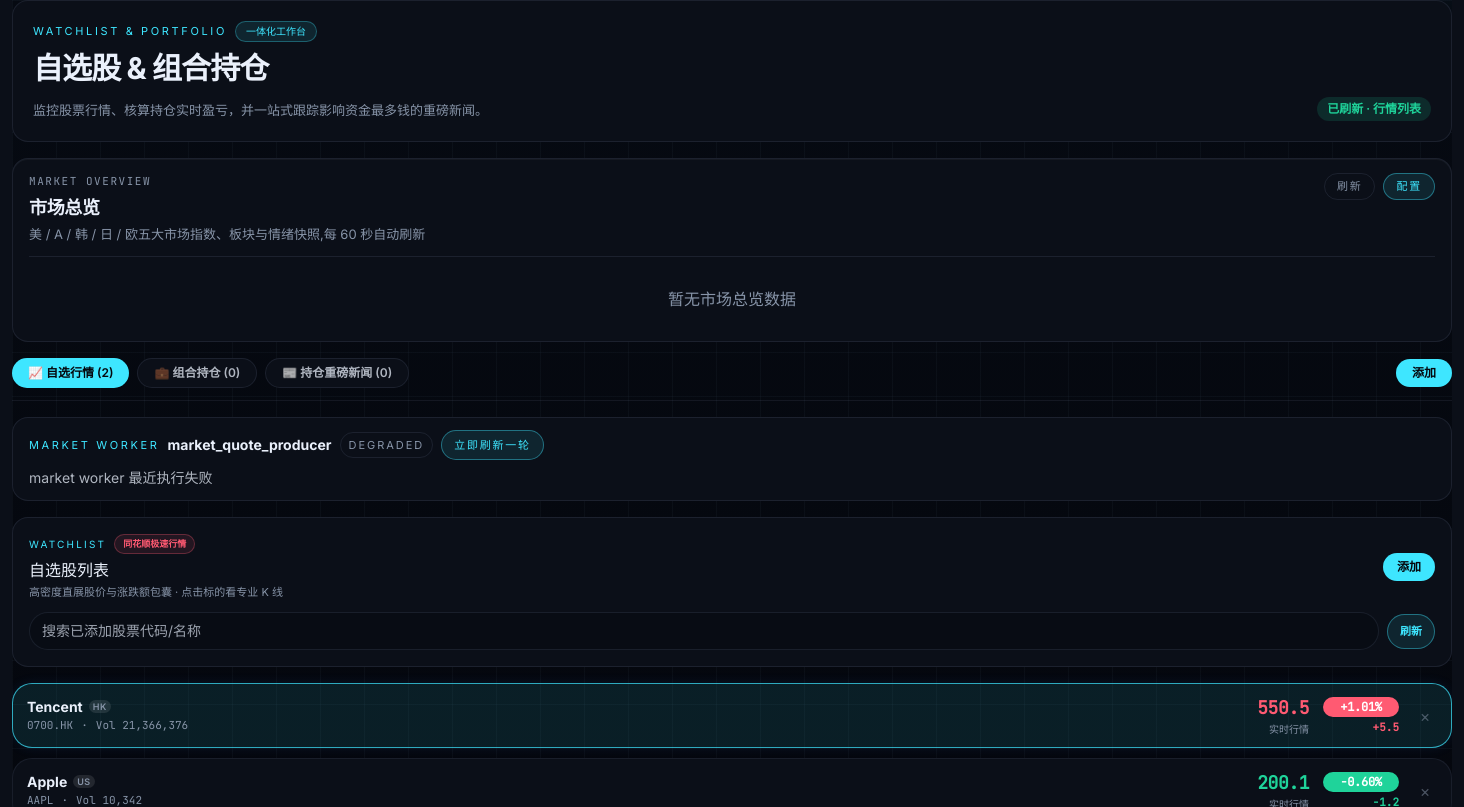
WatchlistView › keeps delete errors inside the view state instead of leaking promise rejections
Click the 2nd button "×": (1425, 791) [1413,779,1437,803]
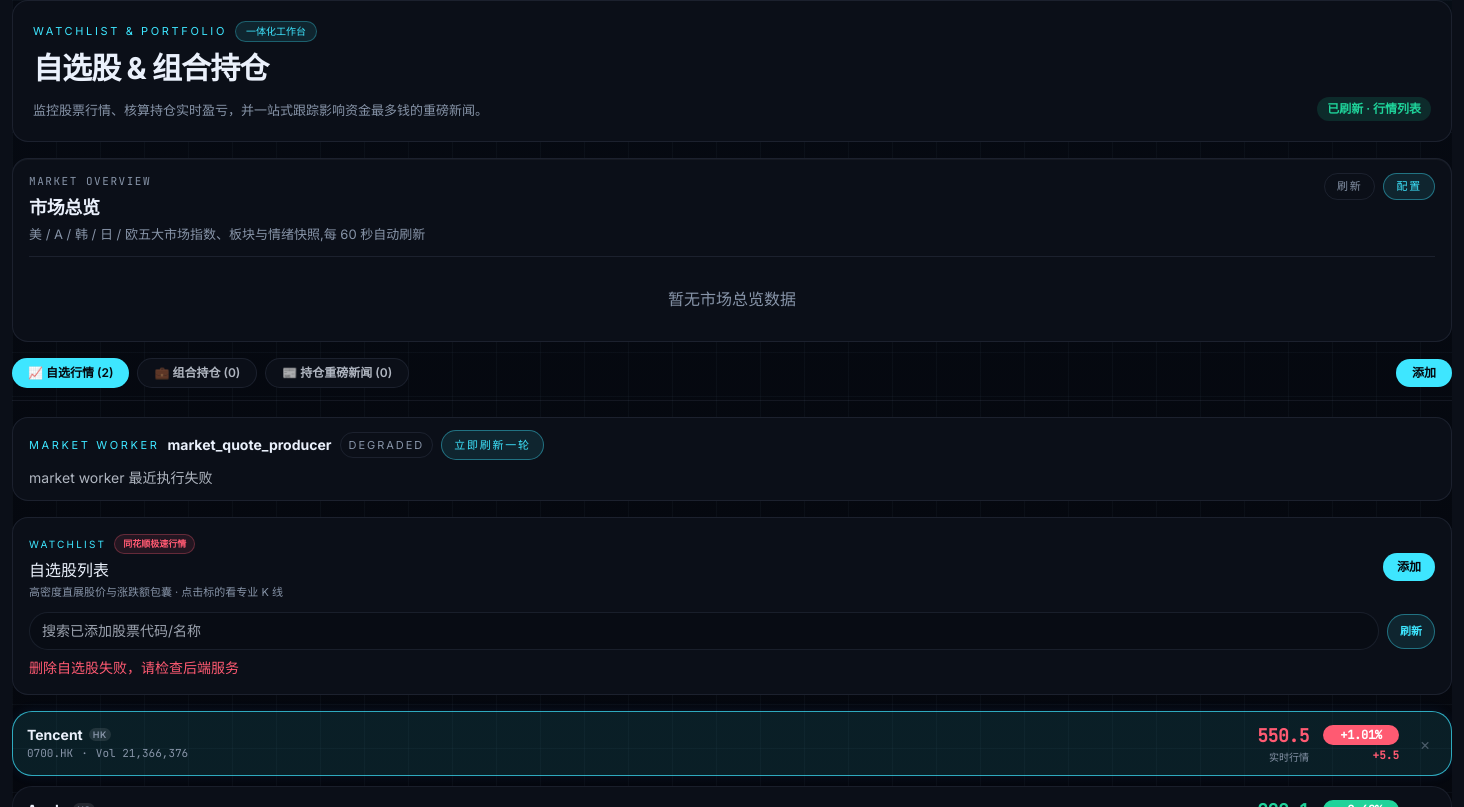
Result: the text "删除自选股失败，请检查后端服务" is shown at [29,660,239,676]
